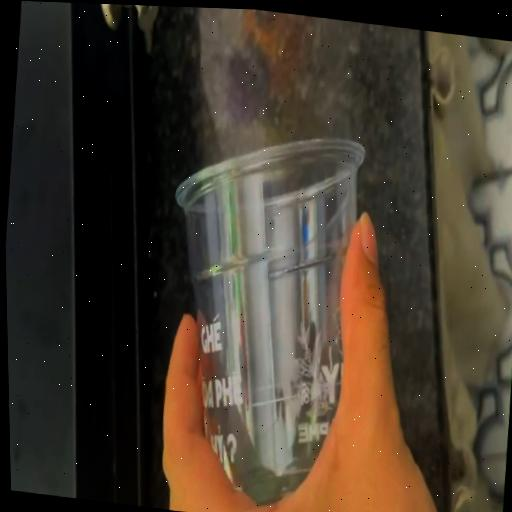ly_nhua: (176, 139, 363, 503)
